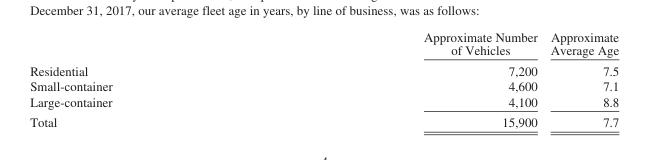table: (29, 29, 618, 129)
table column: (267, 29, 543, 129), (29, 29, 267, 129), (543, 29, 618, 129)
table column header: (29, 29, 618, 59)
table row: (29, 29, 618, 59), (29, 59, 618, 78), (29, 93, 618, 111), (29, 111, 618, 129), (29, 78, 618, 93)
